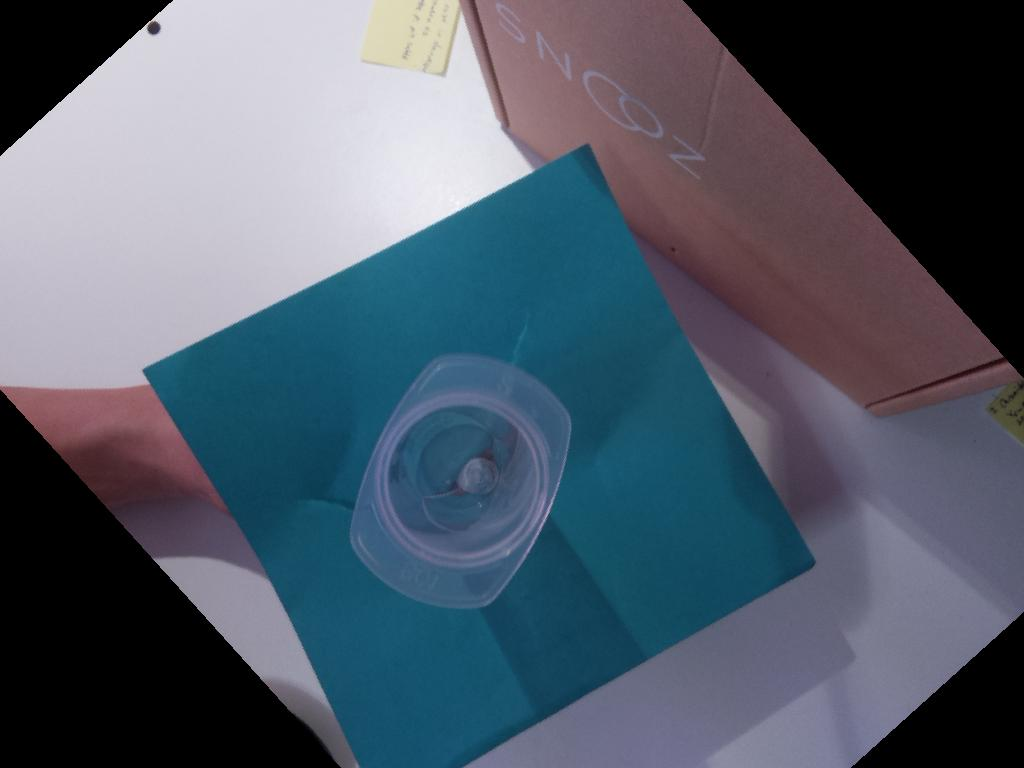clean: (346, 351, 572, 613)
